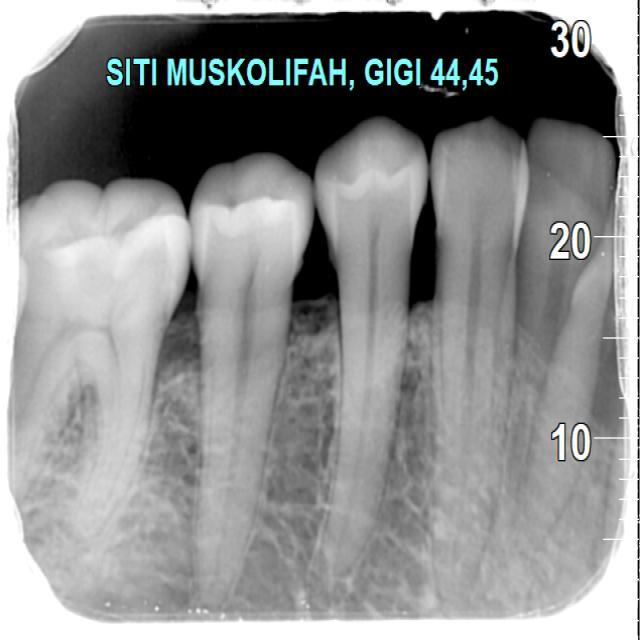individual-tooth-8tto: (190, 155, 327, 583), (313, 122, 420, 585), (433, 123, 539, 587)
